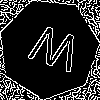W: (23, 23, 83, 82)
